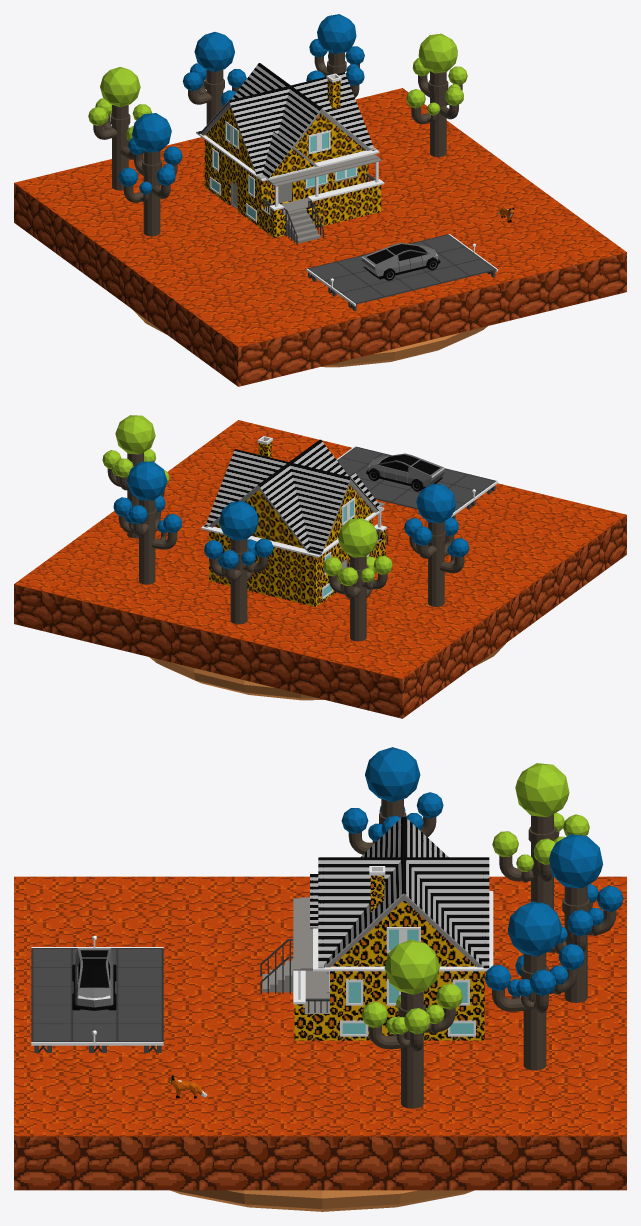
3 views of the same model, one above another, from view 1: azimuth 30°, elevation 25°; view 2: azimuth 150°, elevation 25°; view 3: azimuth 270°, elevation 25° (orthographic). The views are drawn at different scales.
Parts seen in each view (by area): view 1: Cube.001, Cube.637, VEHICLES_CYBERTRUCK, UNDERGROUND_PIZZA; view 2: Cube.001, Cube.637, VEHICLES_CYBERTRUCK, UNDERGROUND_PIZZA; view 3: Cube.001, Cube.637, UNDERGROUND_PIZZA, VEHICLES_CYBERTRUCK.
Boxes of the visible parts, x1,y1,x2,y2 form: Cube.001: [14, 14, 626, 386]; Cube.637: [196, 63, 384, 244]; VEHICLES_CYBERTRUCK: [361, 242, 440, 280]; UNDERGROUND_PIZZA: [132, 309, 487, 367]; Cube.001: [14, 415, 626, 718]; Cube.637: [201, 436, 388, 606]; VEHICLES_CYBERTRUCK: [366, 453, 444, 491]; UNDERGROUND_PIZZA: [149, 643, 505, 700]; Cube.001: [14, 747, 626, 1190]; Cube.637: [260, 816, 493, 1040]; UNDERGROUND_PIZZA: [170, 1190, 474, 1211]; VEHICLES_CYBERTRUCK: [72, 948, 116, 1010].
Size of the model in its own units: 4000 by 1875 by 4000.
31 materials, 5 textured.
